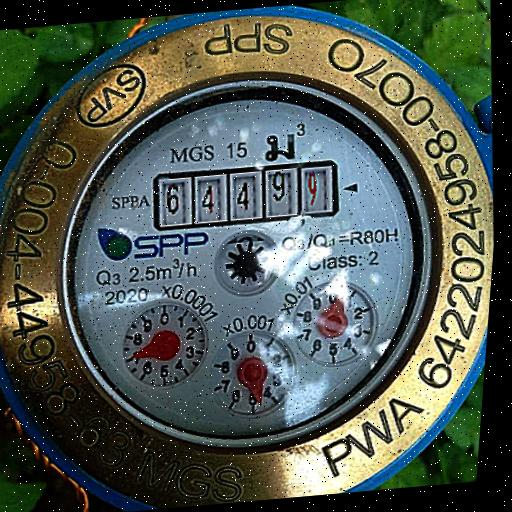4: (231, 177, 258, 221), (195, 179, 221, 222)
6: (160, 183, 187, 225)
9: (303, 171, 330, 212), (268, 175, 293, 217)
border_water_meter_number: (149, 159, 343, 233)
